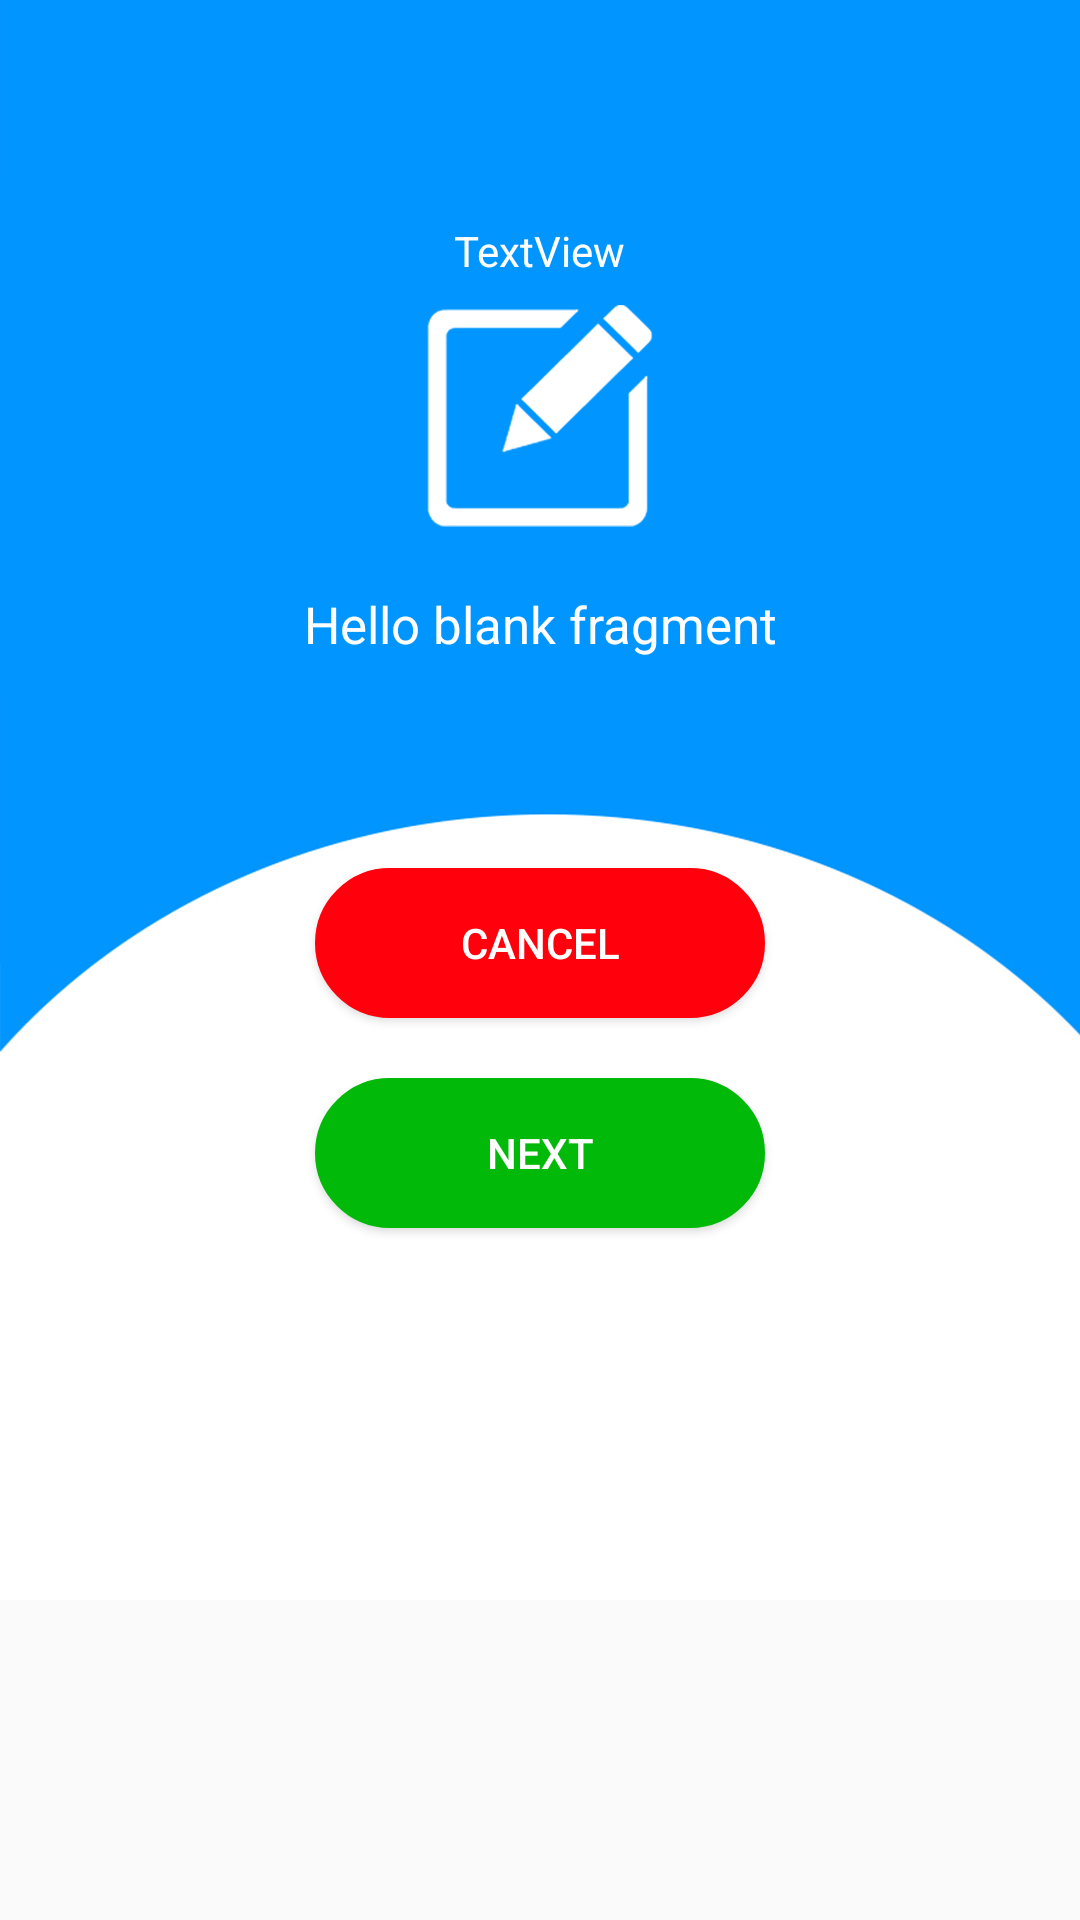

Named icons in this screenshot (1080x1920) and their centers, [x,y]:
edit: [539,416]
